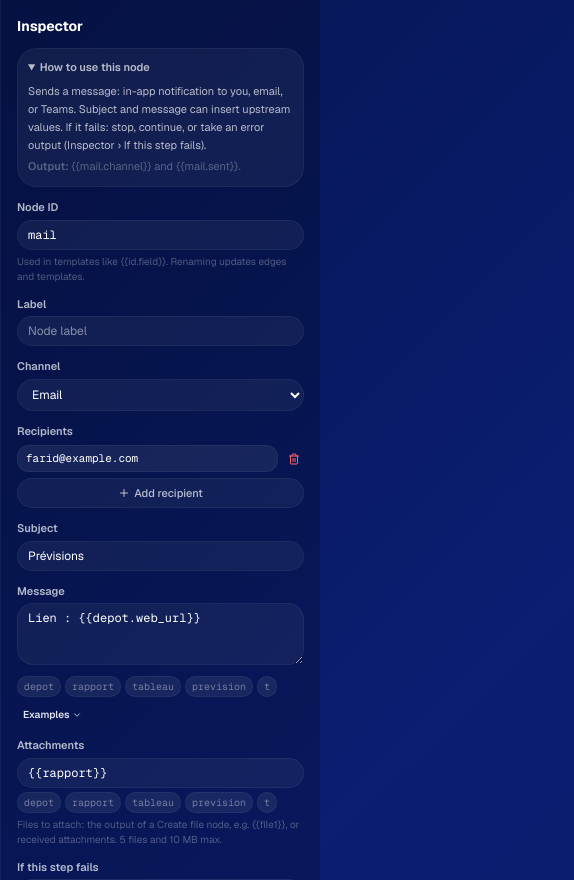
Test case: inspector: email attachments › edits the attachments of an email, and hides them for Teams
The image size is (574, 880).
Clear the field labelled "Attachments depot rapport tableau prevision t" at (160,773), box [17, 758, 304, 788]
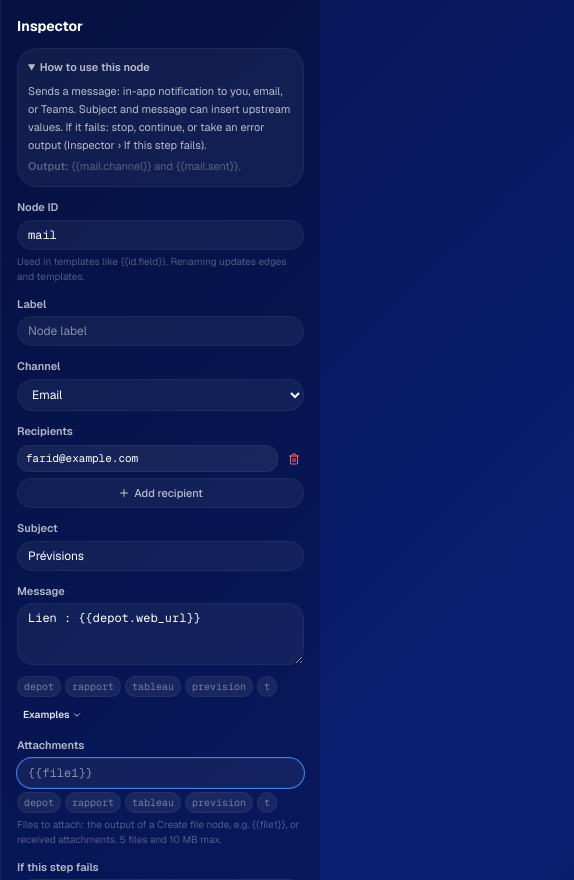
Select "Microsoft Teams" in the dropdown labelled "Channel" at (160,395), box [17, 379, 304, 411]
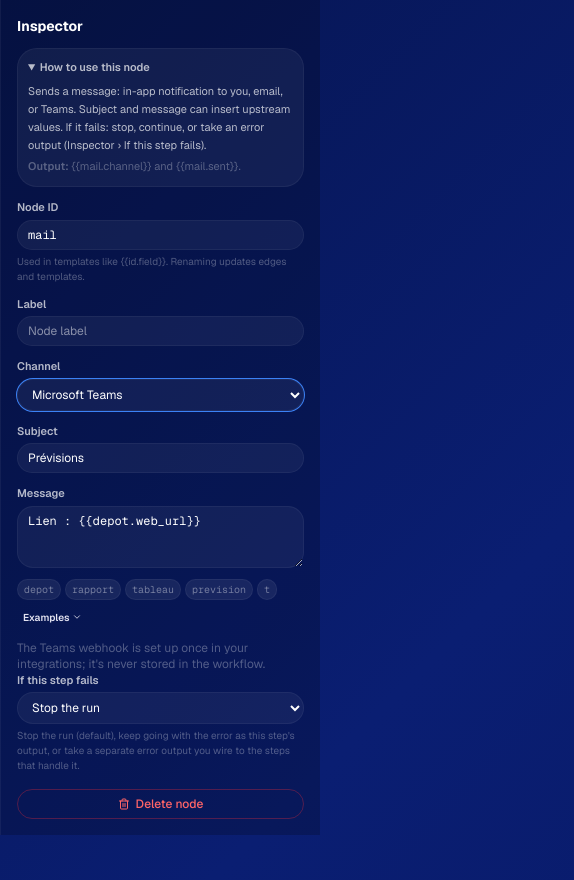
Now the text labelled "Attachments" is gone
